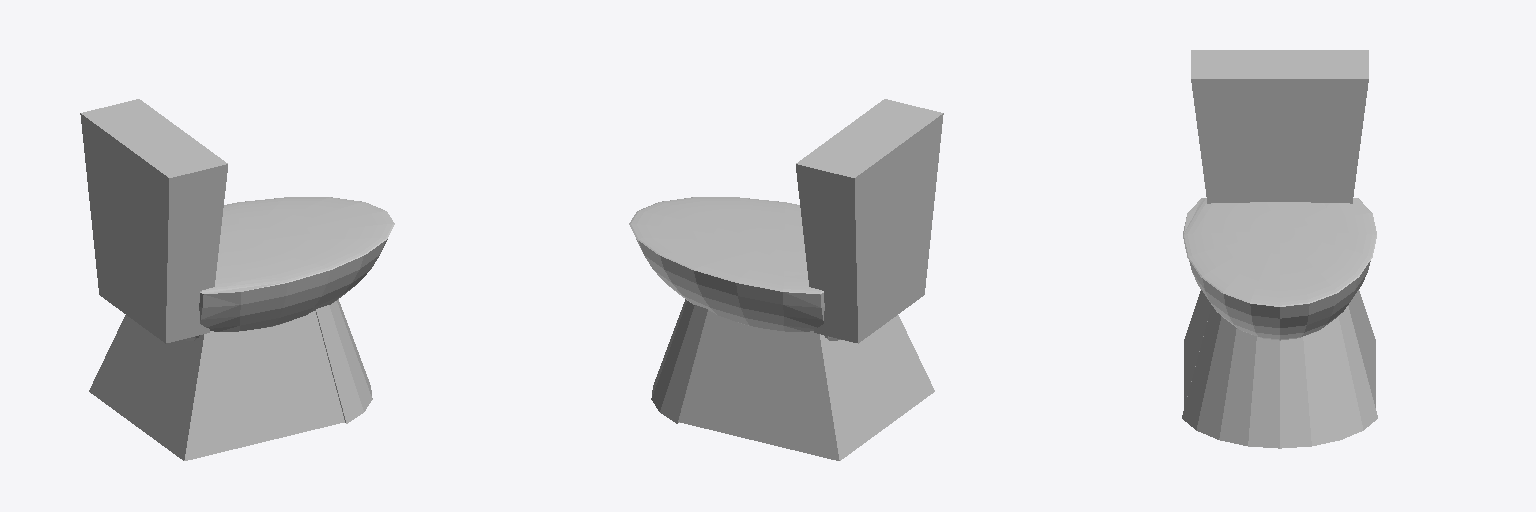
File: toilet.obj
3 renders of one model, left to right at view 1: azimuth 30°, elevation 25°; view 2: azimuth 150°, elevation 25°; view 3: azimuth 270°, elevation 25°, orthographic.
Visible parts, largest first — view 1: pCube2, pCube3, pSphere1; view 2: pCube2, pCube3, pSphere1; view 3: pCube3, pCube2, pSphere1.
Part boxes in pixels (bbox=[...]): pCube2: bbox=[89, 299, 372, 460]; pCube3: bbox=[80, 99, 227, 343]; pSphere1: bbox=[183, 197, 394, 340]; pCube2: bbox=[651, 299, 934, 460]; pCube3: bbox=[796, 99, 943, 343]; pSphere1: bbox=[629, 197, 840, 340]; pCube3: bbox=[1191, 50, 1368, 203]; pCube2: bbox=[1182, 290, 1377, 448]; pSphere1: bbox=[1183, 198, 1376, 340].
Bounding box in the file's own units: 2.93 × 3.03 × 2.